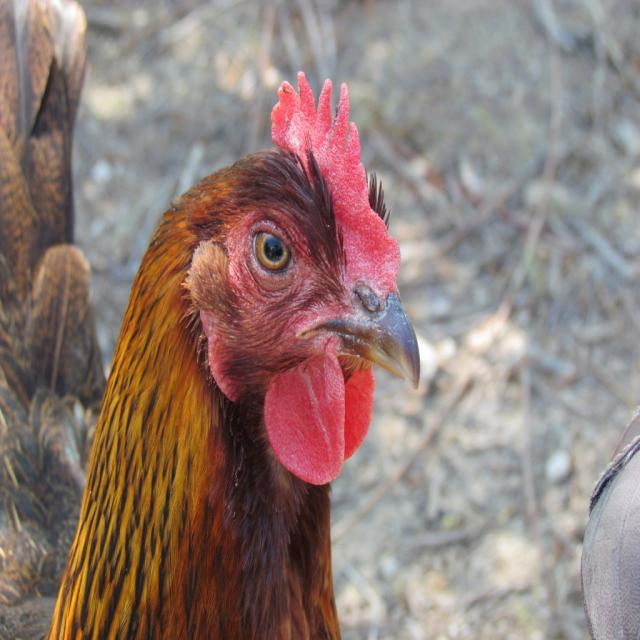Chicken: (2, 2, 420, 638)
